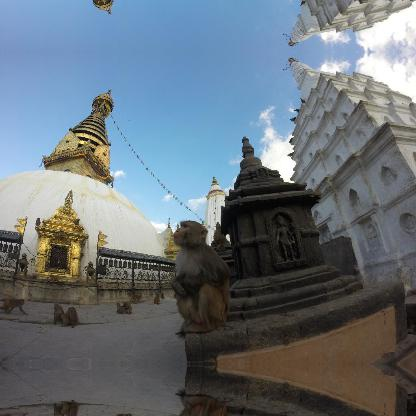Monkey: (168, 225, 242, 335), (168, 393, 243, 415), (0, 296, 28, 312), (214, 223, 226, 249), (53, 304, 63, 324), (68, 307, 76, 327), (128, 293, 142, 303), (67, 401, 77, 415), (61, 312, 70, 326), (61, 402, 70, 416), (53, 404, 64, 415), (124, 301, 132, 315), (116, 302, 124, 314), (154, 294, 160, 304), (162, 291, 164, 299)
